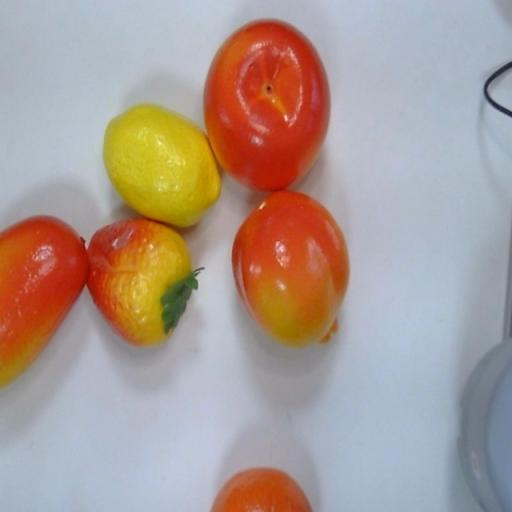Ripe: (203, 22, 343, 191), (231, 190, 366, 347), (0, 209, 94, 392), (97, 99, 227, 223), (90, 216, 201, 358), (204, 472, 331, 512)
